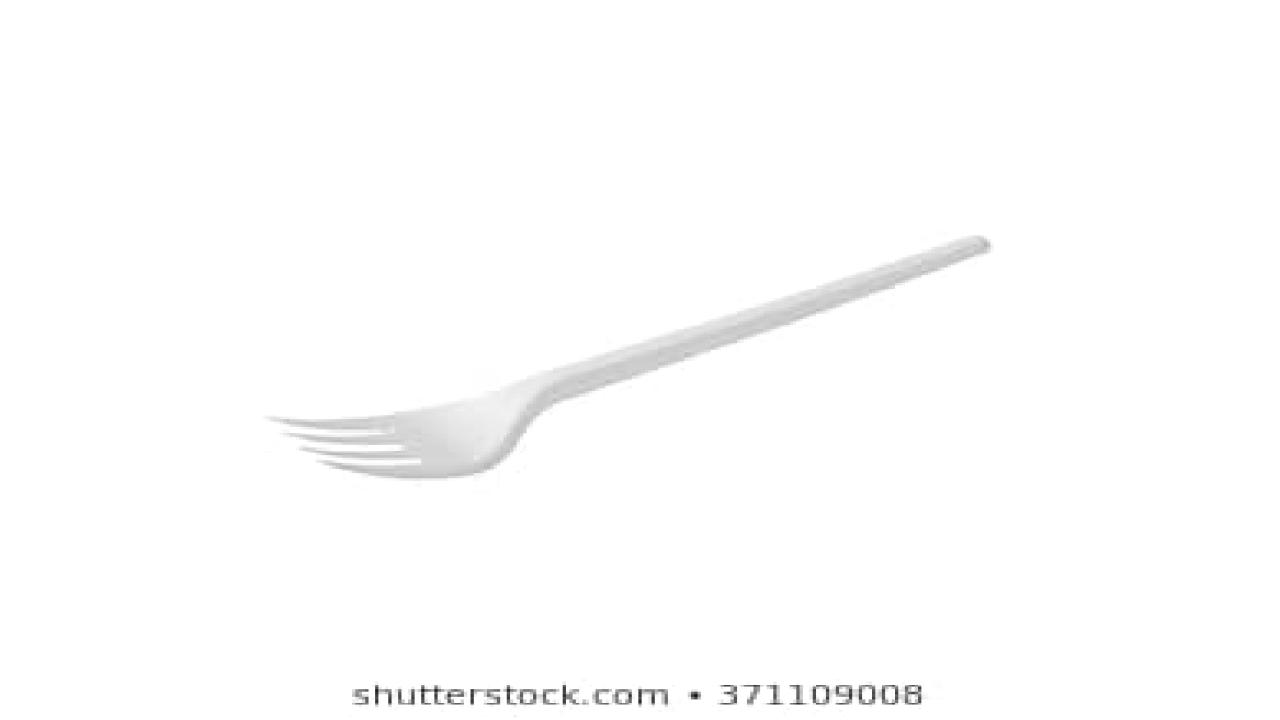fork: (264, 228, 991, 478)
